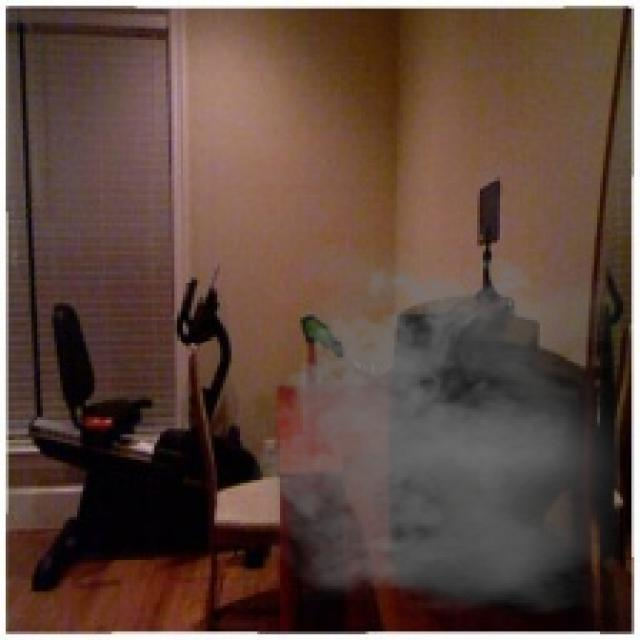smoke: (240, 246, 620, 614)
